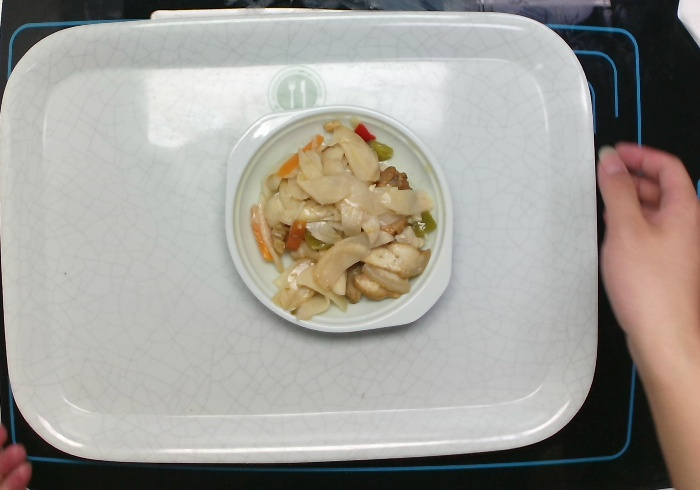JYsf-Shuang_Er_Pan: (221, 94, 460, 342)
